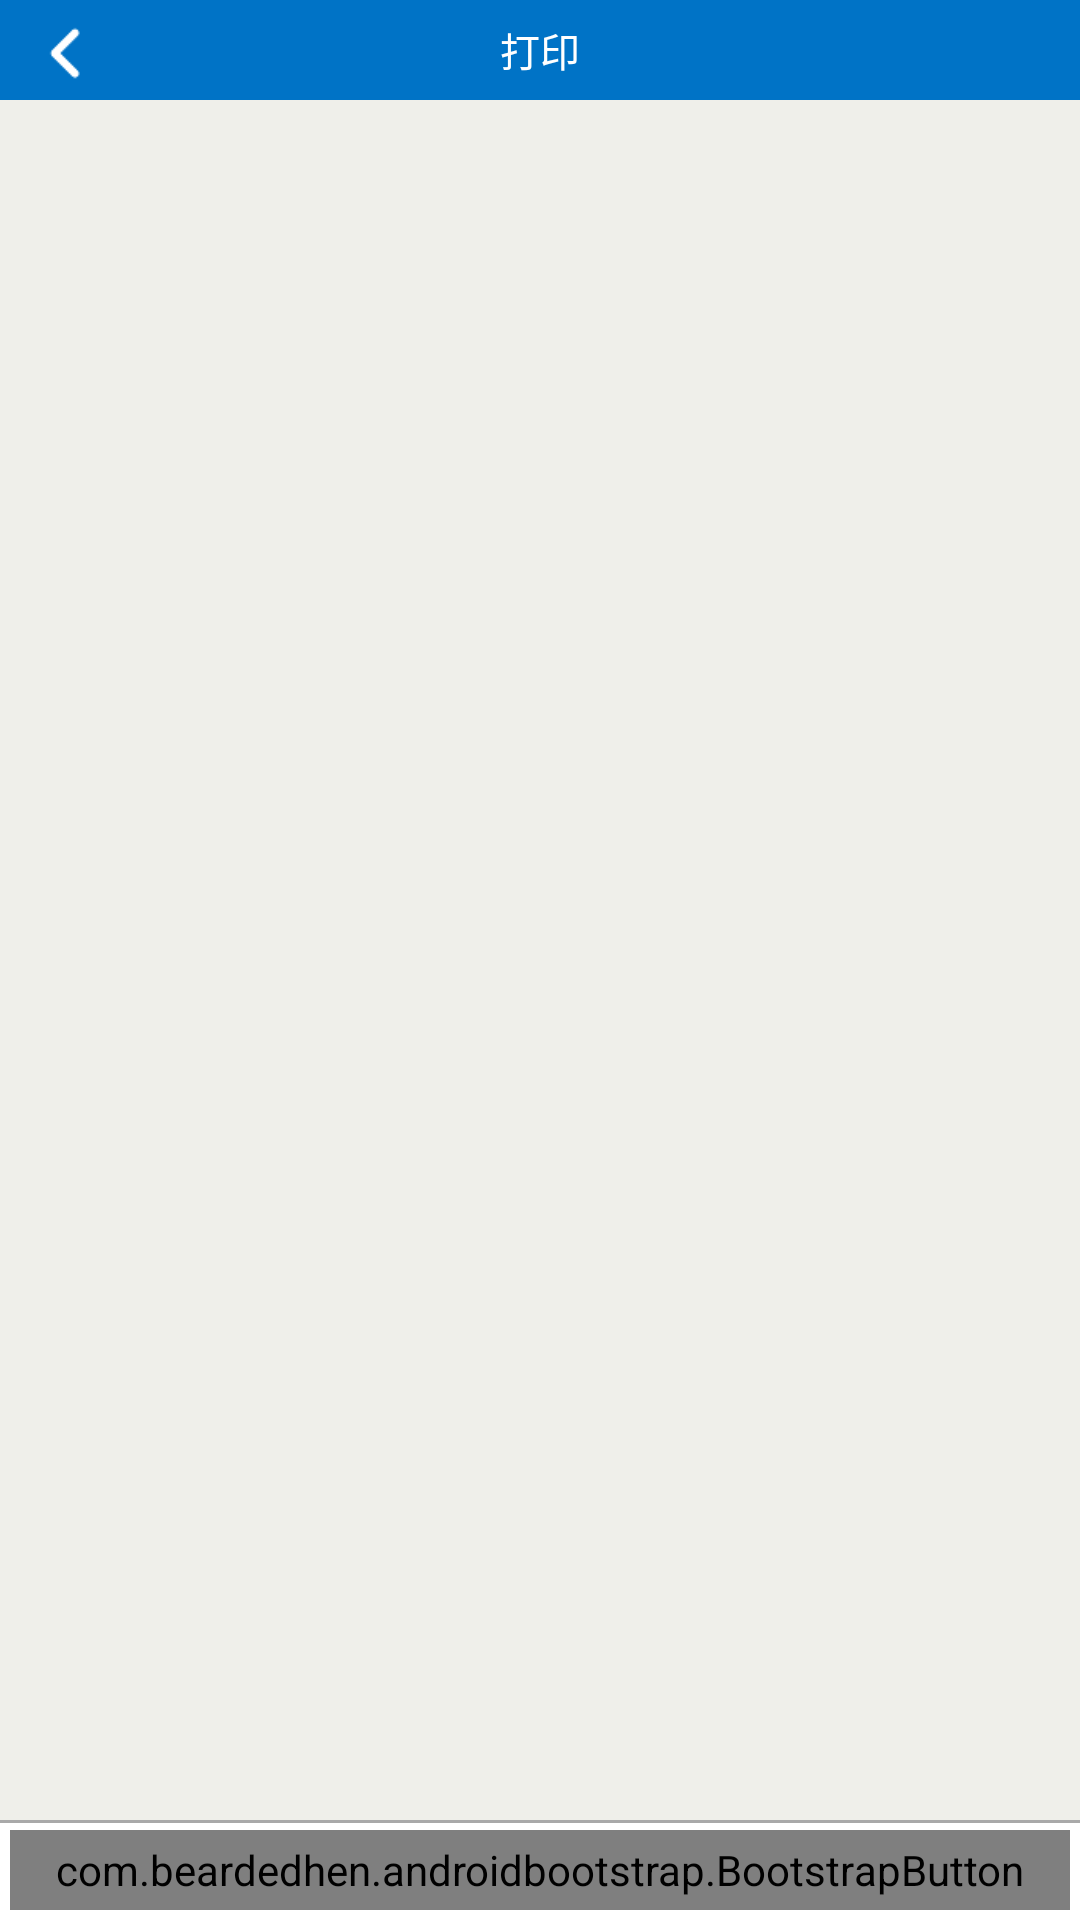

Where icons sit on this 1080 × 1920 app screen, as (x1, y1, x2, y2):
arrow left: (50, 28, 80, 79)
